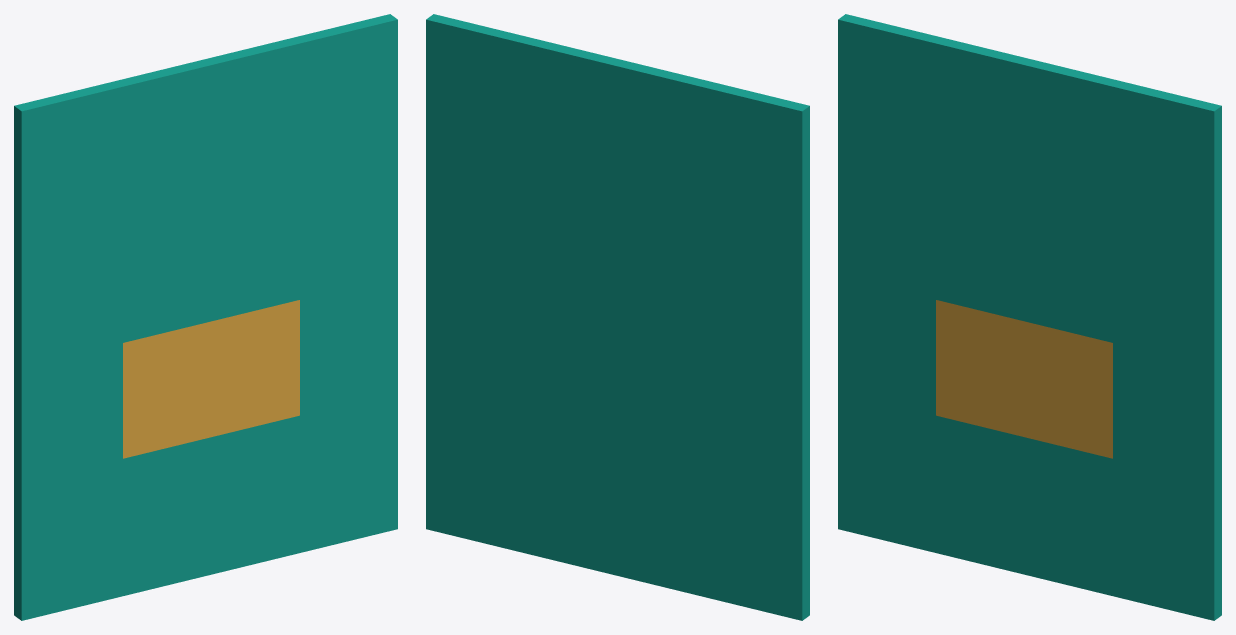
File: CM_Accessory_Apron_Stocker.fbx
3 renders of one model, left to right at view 1: azimuth 30°, elevation 25°; view 2: azimuth 150°, elevation 25°; view 3: azimuth 330°, elevation 25°, orthographic.
Visible parts, largest first — view 1: Handle; view 2: Handle; view 3: Handle.
Boxes of the visible parts, bbox=[...] form: Handle: bbox=[14, 14, 397, 620]; Handle: bbox=[426, 14, 809, 620]; Handle: bbox=[838, 14, 1221, 620].
Size of the model in its own units: 1.7 by 0.072 by 2.2.
1 material, 1 textured.
